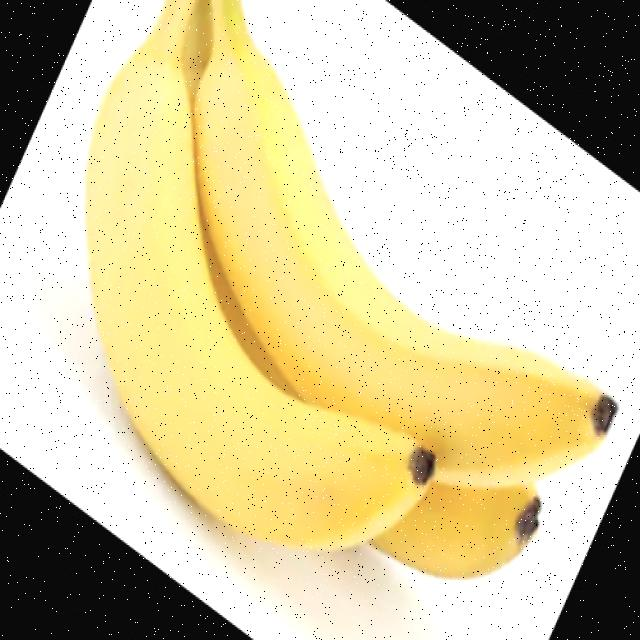god quality banana: (85, 2, 618, 576)
